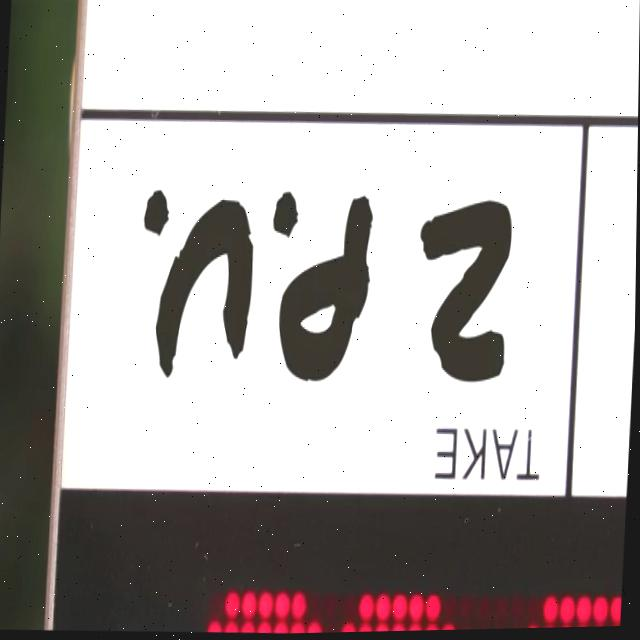Clapperboard: (44, 0, 640, 639)
